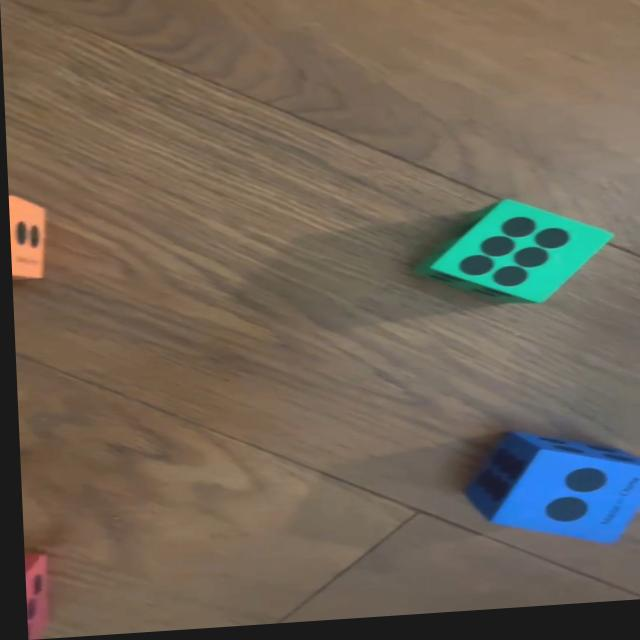blue_block: (456, 431, 640, 559)
red_block: (20, 553, 49, 637)
